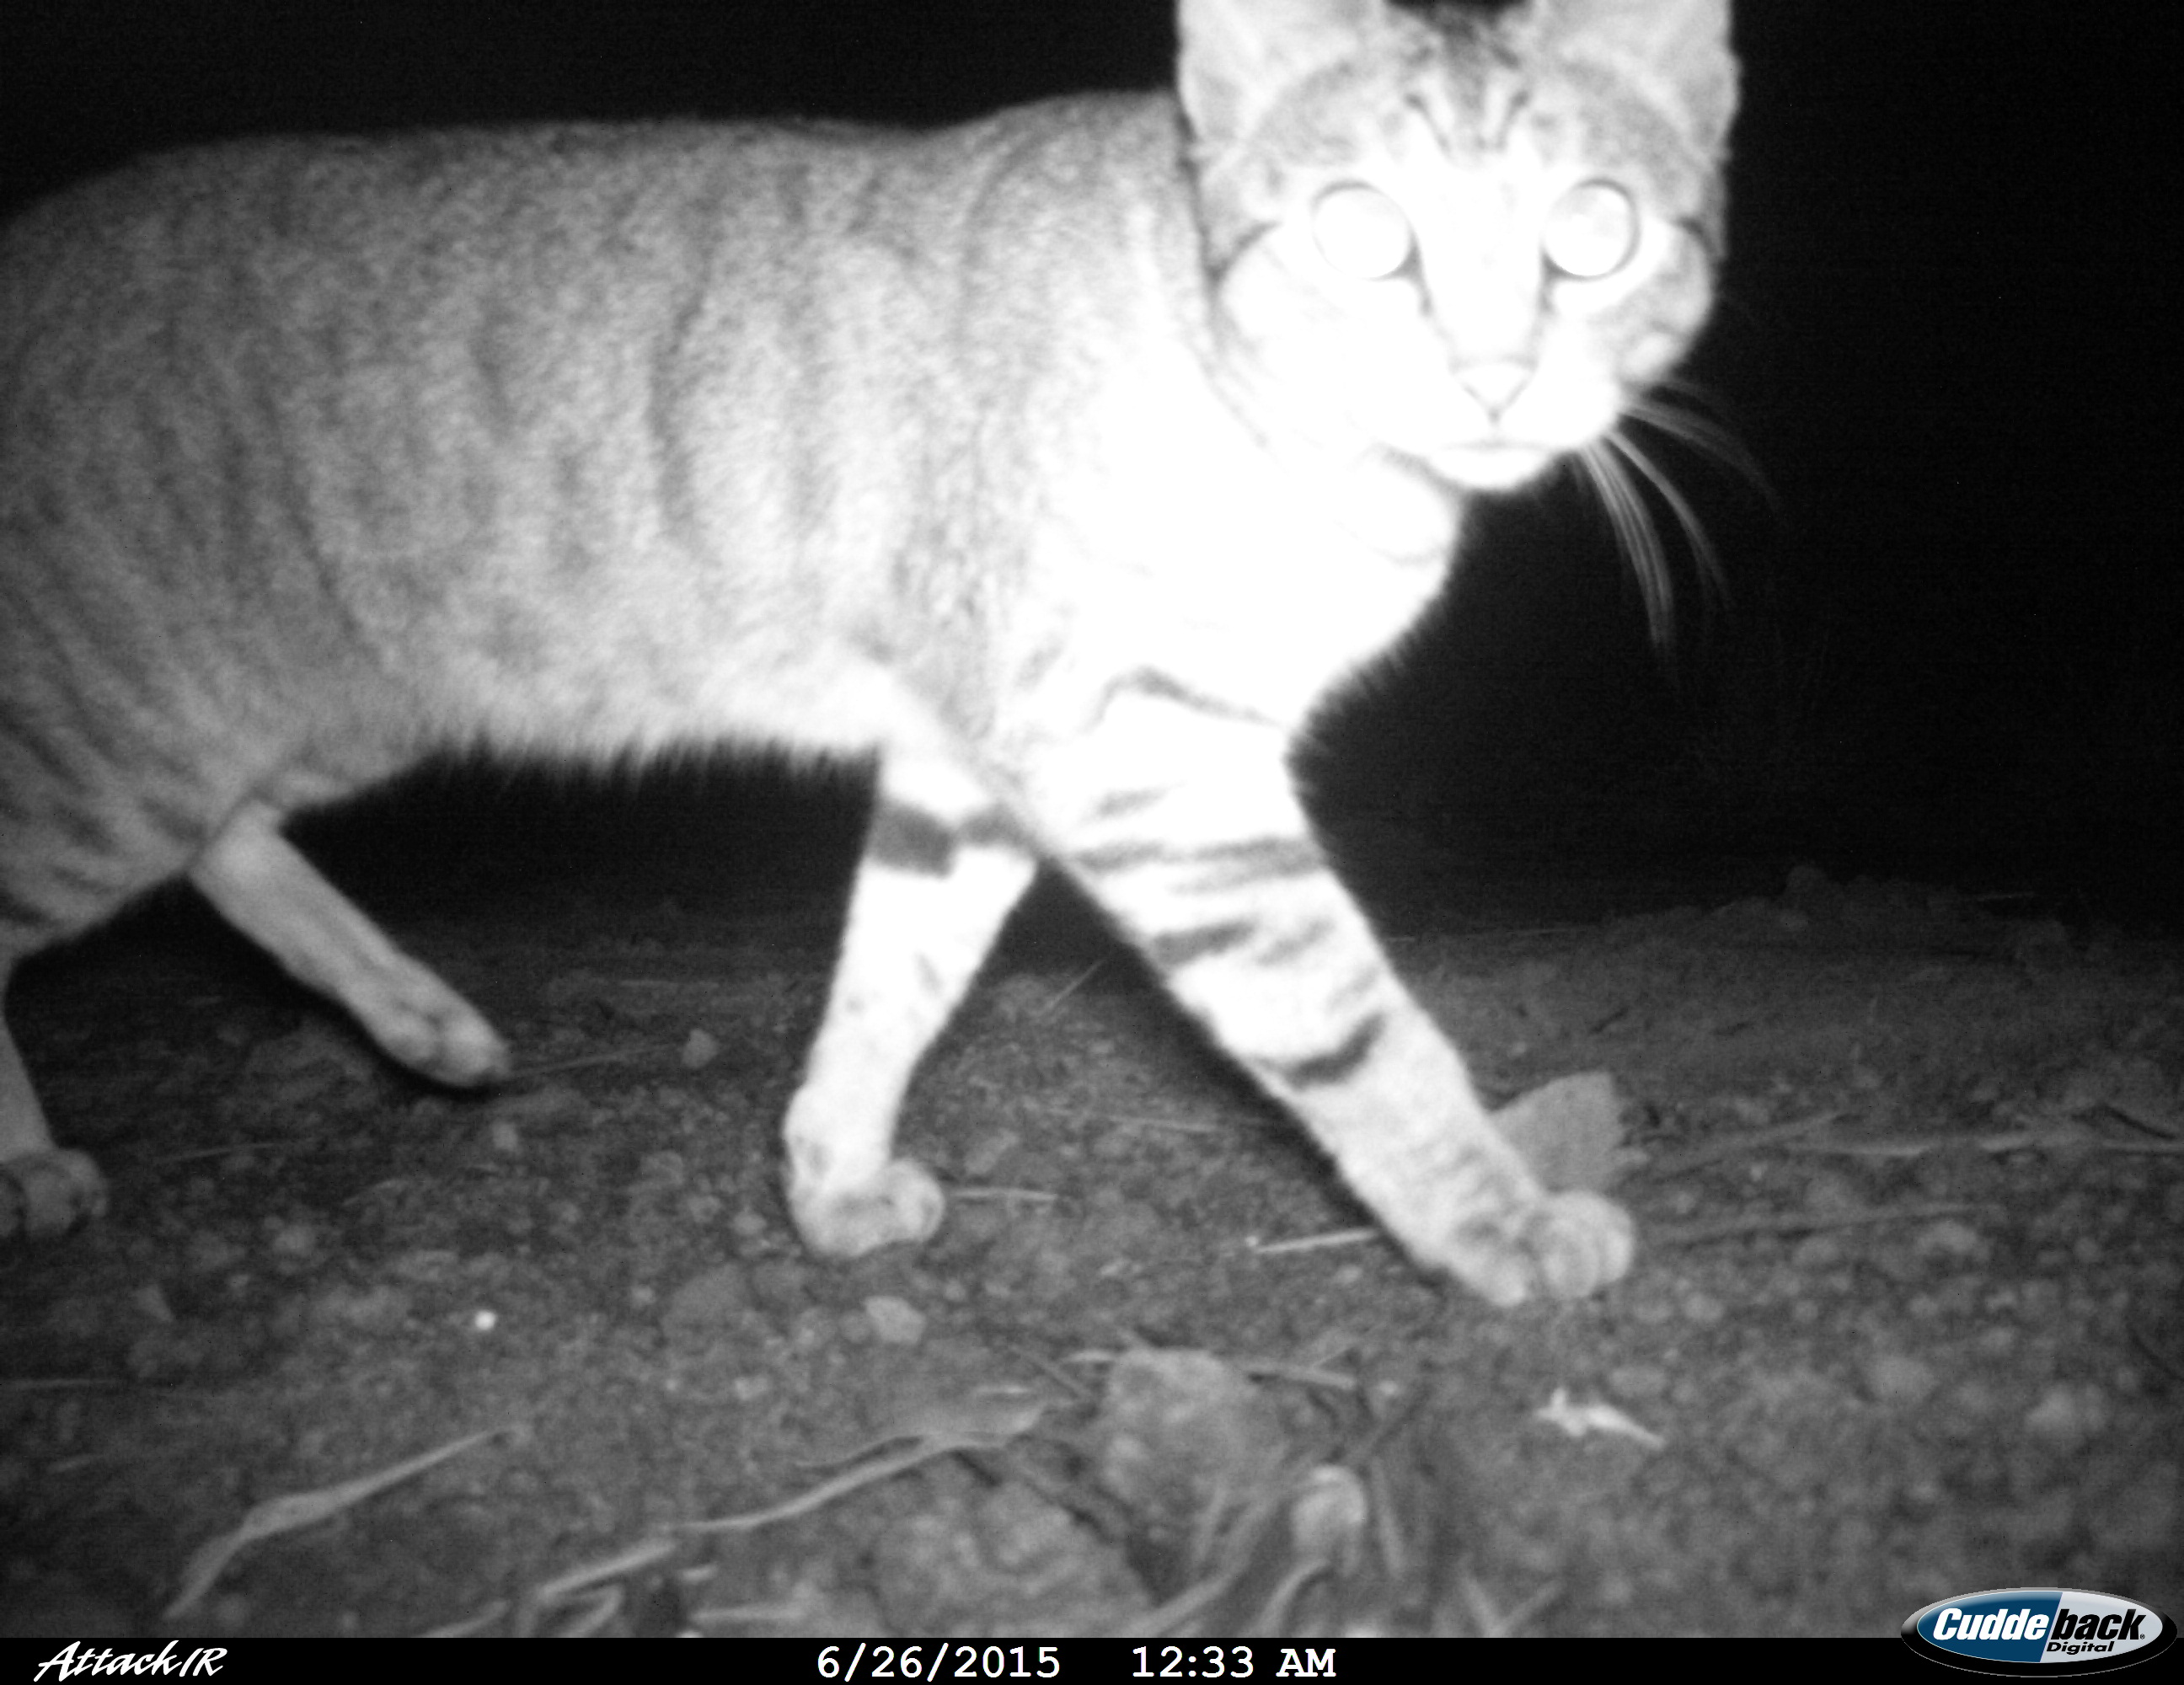cat: (4, 0, 1743, 1347)
